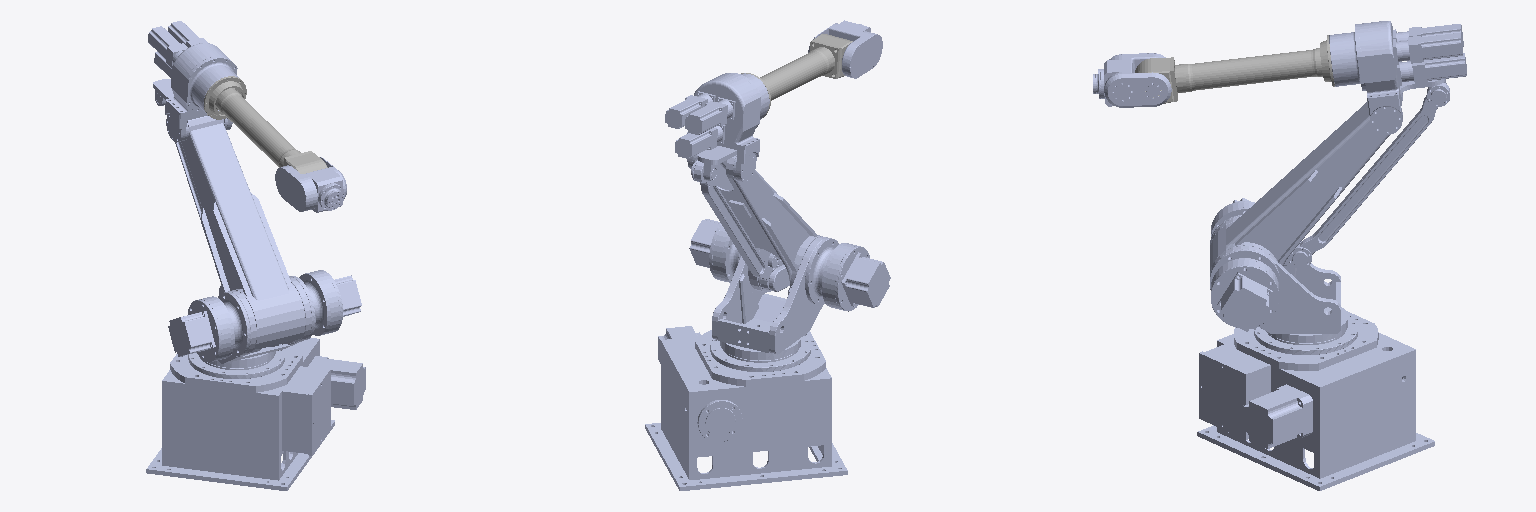
robot.urdf — chx_arm:
<?xml version="1.0" encoding="utf-8"?>
<!-- This URDF was automatically created by SolidWorks to URDF Exporter! Originally created by [author] ([email redacted]) 
     Commit Version: 1.5.1-0-g916b5db  Build Version: 1.5.7152.31018
     For more information, please see http://wiki.ros.org/sw_urdf_exporter -->
<robot
  name="chx_arm">
  <link
    name="base_link">
    <inertial>
      <origin
        xyz="0.0348955653434624 0.0241693508904134 -0.00232707523963244"
        rpy="0 0 0" />
      <mass
        value="184.082485462012" />
      <inertia
        ixx="5.20626041348341"
        ixy="-0.200113220363903"
        ixz="0.0899474424663748"
        iyy="5.51151519670722"
        iyz="0.111748986079125"
        izz="6.85297569982838" />
    </inertial>
    <visual>
      <origin
        xyz="0 0 0"
        rpy="0 0 0" />
      <geometry>
        <mesh
          filename="package://chx_arm/meshes/base_link.STL" />
      </geometry>
      <material
        name="">
        <color
          rgba="0.796078431372549 0.823529411764706 0.937254901960784 1" />
      </material>
    </visual>
    <collision>
      <origin
        xyz="0 0 0"
        rpy="0 0 0" />
      <geometry>
        <mesh
          filename="package://chx_arm/meshes/base_link.STL" />
      </geometry>
    </collision>
  </link>
  <link
    name="link0">
    <inertial>
      <origin
        xyz="-2.64545677031158E-12 -0.126795680300953 0.15630051551124"
        rpy="0 0 0" />
      <mass
        value="76.9439539616572" />
      <inertia
        ixx="1.22845715896028"
        ixy="-1.78598954001519E-05"
        ixz="-1.03114480907995E-05"
        iyy="2.14303282629527"
        iyz="0.397999443386222"
        izz="2.34933499620631" />
    </inertial>
    <visual>
      <origin
        xyz="0 0 0"
        rpy="0 0 0" />
      <geometry>
        <mesh
          filename="package://chx_arm/meshes/link0.STL" />
      </geometry>
      <material
        name="">
        <color
          rgba="0.796078431372549 0.823529411764706 0.937254901960784 1" />
      </material>
    </visual>
    <collision>
      <origin
        xyz="0 0 0"
        rpy="0 0 0" />
      <geometry>
        <mesh
          filename="package://chx_arm/meshes/link0.STL" />
      </geometry>
    </collision>
  </link>
  <joint
    name="joint0"
    type="continuous">
    <origin
      xyz="0 0 0.159"
      rpy="0 0 0" />
    <parent
      link="base_link" />
    <child
      link="link0" />
    <axis
      xyz="0 0 1" />
  </joint>
  <link
    name="link1">
    <inertial>
      <origin
        xyz="-0.0461480952901762 0.126726435829288 0.14126848790397"
        rpy="0 0 0" />
      <mass
        value="34.292097949496" />
      <inertia
        ixx="2.23232909994103"
        ixy="0.0402244235364634"
        ixz="0.0200121013666171"
        iyy="1.23249379084698"
        iyz="-0.970711770344832"
        izz="1.21038176842942" />
    </inertial>
    <visual>
      <origin
        xyz="0 0 0"
        rpy="0 0 0" />
      <geometry>
        <mesh
          filename="package://chx_arm/meshes/link1.STL" />
      </geometry>
      <material
        name="">
        <color
          rgba="0.796078431372549 0.823529411764706 0.937254901960784 1" />
      </material>
    </visual>
    <collision>
      <origin
        xyz="0 0 0"
        rpy="0 0 0" />
      <geometry>
        <mesh
          filename="package://chx_arm/meshes/link1.STL" />
      </geometry>
    </collision>
  </link>
  <joint
    name="joint1"
    type="revolute">
    <origin
      xyz="0.044 -0.18105 0.2028"
      rpy="0 0 0" />
    <parent
      link="link0" />
    <child
      link="link1" />
    <axis
      xyz="1 0 0" />
    <limit
      lower="-1.57"
      upper="3.14"
      effort="0"
      velocity="0" />
  </joint>
  <link
    name="link2">
    <inertial>
      <origin
        xyz="-0.0437396006883723 0.00210629935704826 0.135464420934437"
        rpy="0 0 0" />
      <mass
        value="35.9055062178381" />
      <inertia
        ixx="1.34696830551814"
        ixy="0.00172269450524329"
        ixz="-0.0112754080733901"
        iyy="0.257567709614032"
        iyz="-0.106952023696208"
        izz="1.23779431199324" />
    </inertial>
    <visual>
      <origin
        xyz="0 0 0"
        rpy="0 0 0" />
      <geometry>
        <mesh
          filename="package://chx_arm/meshes/link2.STL" />
      </geometry>
      <material
        name="">
        <color
          rgba="0.796078431372549 0.823529411764706 0.937254901960784 1" />
      </material>
    </visual>
    <collision>
      <origin
        xyz="0 0 0"
        rpy="0 0 0" />
      <geometry>
        <mesh
          filename="package://chx_arm/meshes/link2.STL" />
      </geometry>
    </collision>
  </link>
  <joint
    name="joint2"
    type="revolute">
    <origin
      xyz="-0.0004995 0.41956 0.5152"
      rpy="0 0 0" />
    <parent
      link="link1" />
    <child
      link="link2" />
    <axis
      xyz="1 0 0" />
    <limit
      lower="-1.57"
      upper="3.14"
      effort="0"
      velocity="0" />
  </joint>
  <link
    name="link3">
    <inertial>
      <origin
        xyz="1.54635491976182E-05 -0.282484174016897 -0.0365353512745259"
        rpy="0 0 0" />
      <mass
        value="5.21747302204922" />
      <inertia
        ixx="0.248020028820114"
        ixy="3.3697982914275E-05"
        ixz="2.05535468907381E-05"
        iyy="0.0127279620097288"
        iyz="-0.0303413752929731"
        izz="0.243619214764803" />
    </inertial>
    <visual>
      <origin
        xyz="0 0 0"
        rpy="0 0 0" />
      <geometry>
        <mesh
          filename="package://chx_arm/meshes/link3.STL" />
      </geometry>
      <material
        name="">
        <color
          rgba="0.752941176470588 0.752941176470588 0.752941176470588 1" />
      </material>
    </visual>
    <collision>
      <origin
        xyz="0 0 0"
        rpy="0 0 0" />
      <geometry>
        <mesh
          filename="package://chx_arm/meshes/link3.STL" />
      </geometry>
    </collision>
  </link>
  <joint
    name="joint3"
    type="continuous">
    <origin
      xyz="-0.043499 -0.12396 0.15521"
      rpy="0 0 0" />
    <parent
      link="link2" />
    <child
      link="link3" />
    <axis
      xyz="0 -0.99172 -0.12841" />
  </joint>
  <link
    name="link4">
    <inertial>
      <origin
        xyz="0.0490544402360266 -0.0934798026635661 -0.00384960431099457"
        rpy="0 0 0" />
      <mass
        value="2.88812072313109" />
      <inertia
        ixx="0.0105413676794103"
        ixy="0.000663630823440864"
        ixz="-3.60514287615813E-05"
        iyy="0.0104136268617097"
        iyz="-0.000105582669624489"
        izz="0.0135486282561121" />
    </inertial>
    <visual>
      <origin
        xyz="0 0 0"
        rpy="0 0 0" />
      <geometry>
        <mesh
          filename="package://chx_arm/meshes/link4.STL" />
      </geometry>
      <material
        name="">
        <color
          rgba="0.796078431372549 0.823529411764706 0.937254901960784 1" />
      </material>
    </visual>
    <collision>
      <origin
        xyz="0 0 0"
        rpy="0 0 0" />
      <geometry>
        <mesh
          filename="package://chx_arm/meshes/link4.STL" />
      </geometry>
    </collision>
  </link>
  <joint
    name="joint4"
    type="revolute">
    <origin
      xyz="-0.053987 -0.55174 -0.072643"
      rpy="0 0 0" />
    <parent
      link="link3" />
    <child
      link="link4" />
    <axis
      xyz="0.99976 -0.0028303 0.021858" />
    <limit
      lower="-1.57"
      upper="3.14"
      effort="0"
      velocity="0" />
  </joint>
  <link
    name="link5">
    <inertial>
      <origin
        xyz="4.28102391634155E-05 0.0214382864793199 0.000817880344284205"
        rpy="0 0 0" />
      <mass
        value="0.606228746230745" />
      <inertia
        ixx="0.000317321880142096"
        ixy="-1.48333425567916E-07"
        ixz="-5.65898740514368E-09"
        iyy="0.000243040543403175"
        iyz="-2.8338779588137E-06"
        izz="0.000317214062621633" />
    </inertial>
    <visual>
      <origin
        xyz="0 0 0"
        rpy="0 0 0" />
      <geometry>
        <mesh
          filename="package://chx_arm/meshes/link5.STL" />
      </geometry>
      <material
        name="">
        <color
          rgba="0.796078431372549 0.823529411764706 0.937254901960784 1" />
      </material>
    </visual>
    <collision>
      <origin
        xyz="0 0 0"
        rpy="0 0 0" />
      <geometry>
        <mesh
          filename="package://chx_arm/meshes/link5.STL" />
      </geometry>
    </collision>
  </link>
  <joint
    name="joint5"
    type="continuous">
    <origin
      xyz="0.05364 -0.18989 -0.0075075"
      rpy="0 0 0" />
    <parent
      link="link4" />
    <child
      link="link5" />
    <axis
      xyz="0.0019955 0.99927 0.038123" />
  </joint>
</robot>

--- What the picture shows (computed from the rendered views, not written in the file) ---
The picture shows the robot from 3 angles, left to right: view 1: azimuth 30°, elevation 25°; view 2: azimuth 150°, elevation 25°; view 3: azimuth 270°, elevation 25°; orthographic projection.
Robot: chx_arm — 7 links, 6 joints (3 revolute, 3 continuous); root link base_link; default pose: all joints at 0.
Visible links, largest first — view 1: base_link, link1, link0, link2, link3, link4, link5; view 2: base_link, link0, link1, link2, link3, link4; view 3: base_link, link1, link0, link2, link3, link4.
Boxes of the visible links, <box> form: base_link: <box>146,338,365,490</box>; link1: <box>175,116,305,352</box>; link0: <box>168,270,361,367</box>; link2: <box>148,21,238,142</box>; link3: <box>204,76,327,173</box>; link4: <box>275,157,346,212</box>; link5: <box>318,183,344,210</box>; base_link: <box>645,326,847,490</box>; link0: <box>689,219,890,360</box>; link1: <box>691,154,820,292</box>; link2: <box>665,73,769,182</box>; link3: <box>741,34,852,117</box>; link4: <box>808,20,882,78</box>; base_link: <box>1197,311,1434,490</box>; link1: <box>1210,83,1449,270</box>; link0: <box>1210,198,1347,342</box>; link2: <box>1152,21,1466,134</box>; link3: <box>1135,35,1334,103</box>; link4: <box>1104,53,1171,107</box>.
Size in the robot's own frame: 0.7403 by 1.11 by 1.35 metres.
Meshes: 7 distinct files referenced, 7 mesh visuals loaded (7 binary STL).